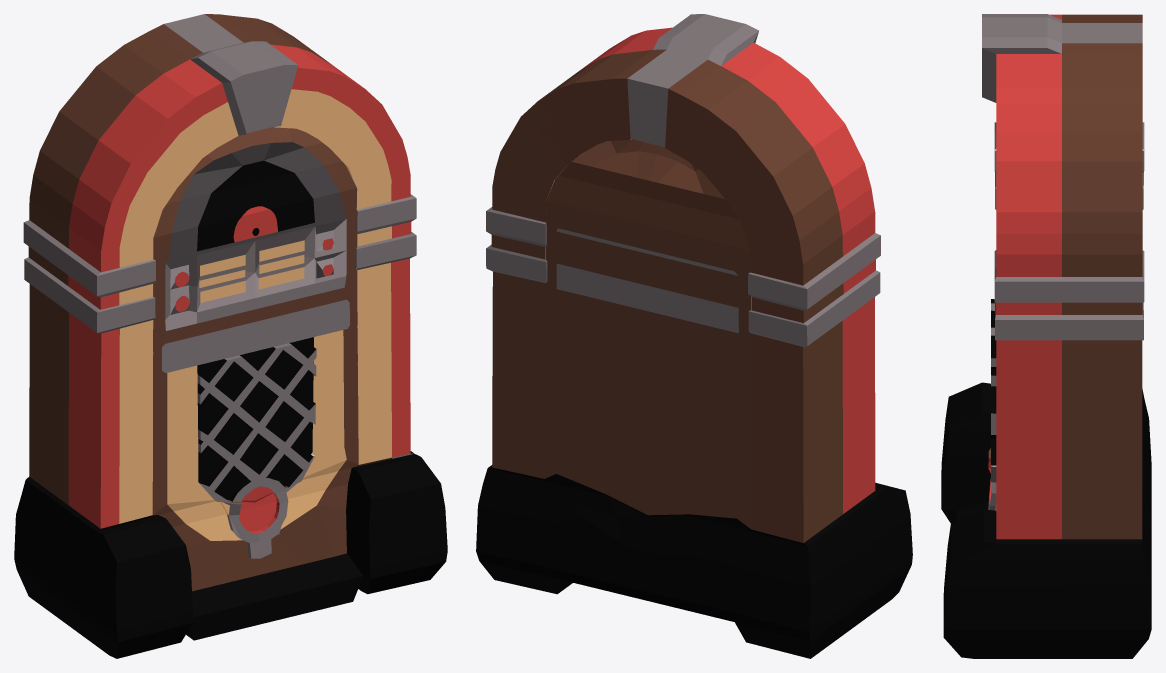
Rendered from junkbox.glb.
The picture shows the model from 3 angles, left to right: view 1: azimuth 30°, elevation 25°; view 2: azimuth 150°, elevation 25°; view 3: azimuth 270°, elevation 25°; orthographic projection. The views are drawn at different scales.
Parts seen in each view (by area): view 1: JunkBoox; view 2: JunkBoox; view 3: JunkBoox.
Part boxes in pixels (left/top/right/bottom): JunkBoox: left=14, top=14, right=447, bottom=658; JunkBoox: left=476, top=14, right=912, bottom=658; JunkBoox: left=941, top=14, right=1151, bottom=658.
Bounding box in the file's own units: 5.34 × 8.34 × 2.87.
